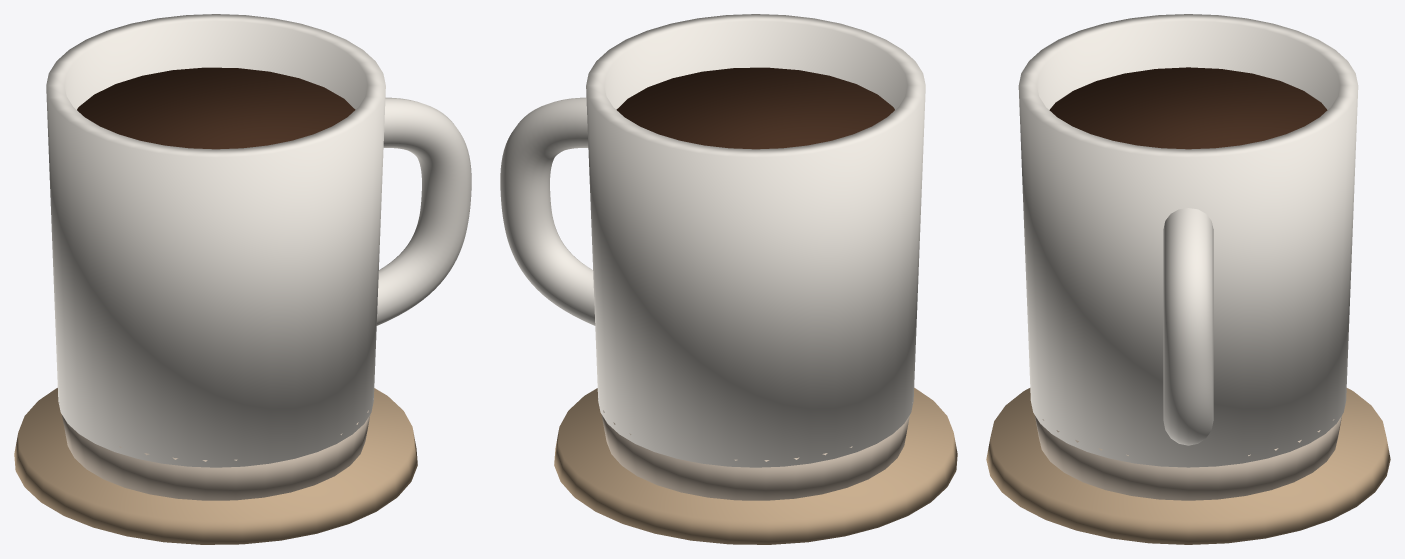
The model's file is coffee_mug.glb.
3 renders of one model, left to right at view 1: azimuth 30°, elevation 25°; view 2: azimuth 150°, elevation 25°; view 3: azimuth 270°, elevation 25°, orthographic.
Visible parts, largest first — view 1: Mug_Body, Coaster, Mug_Coffee, Mug_Handle, Mug_Foot; view 2: Mug_Body, Coaster, Mug_Coffee, Mug_Handle, Mug_Foot; view 3: Mug_Body, Coaster, Mug_Coffee, Mug_Handle, Mug_Foot.
Part boxes in pixels (bbox=[...]): Mug_Body: bbox=[46, 14, 385, 467]; Coaster: bbox=[14, 388, 417, 544]; Mug_Coffee: bbox=[77, 67, 355, 149]; Mug_Handle: bbox=[376, 97, 471, 325]; Mug_Foot: bbox=[59, 398, 373, 500]; Mug_Body: bbox=[586, 14, 925, 467]; Coaster: bbox=[554, 388, 957, 544]; Mug_Coffee: bbox=[616, 67, 894, 149]; Mug_Handle: bbox=[500, 97, 595, 325]; Mug_Foot: bbox=[598, 398, 912, 500]; Mug_Body: bbox=[1018, 14, 1358, 467]; Coaster: bbox=[986, 388, 1390, 544]; Mug_Coffee: bbox=[1049, 67, 1327, 149]; Mug_Handle: bbox=[1163, 208, 1213, 445]; Mug_Foot: bbox=[1035, 416, 1341, 500].
Size of the model in its own units: 0.1221 by 0.1022 by 0.1.
